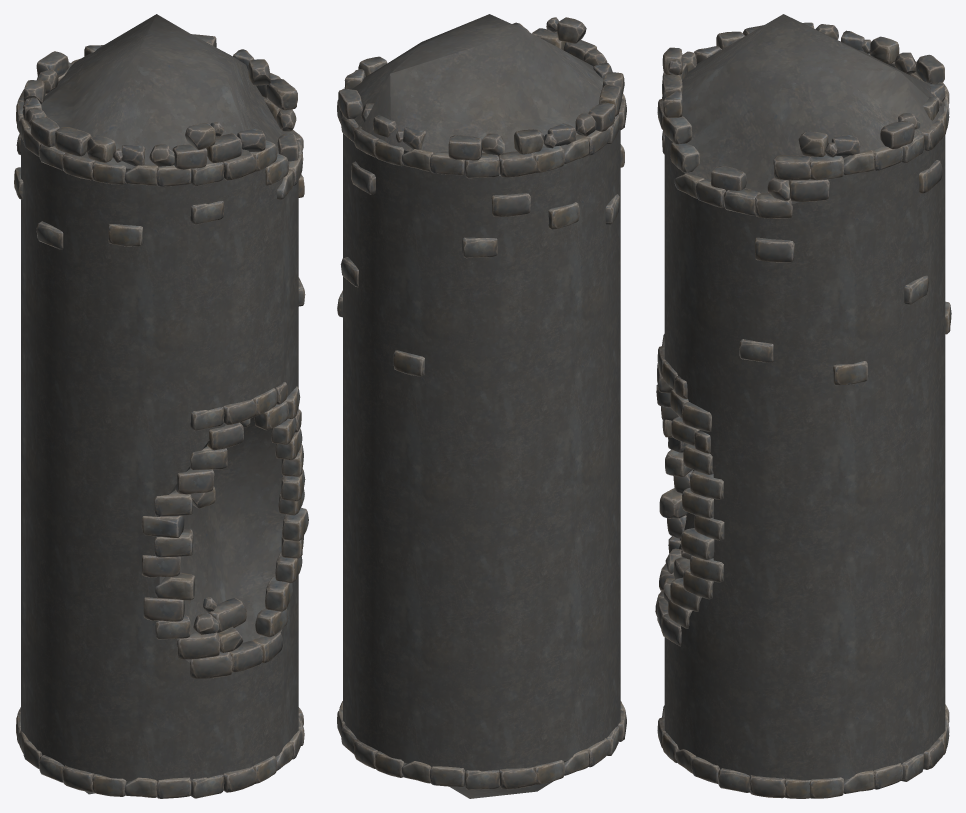
Rendered from BG_Tower.fbx.
3 views of the same model, side by side, from view 1: azimuth 30°, elevation 25°; view 2: azimuth 150°, elevation 25°; view 3: azimuth 270°, elevation 25° (orthographic).
Parts seen in each view (by area): view 1: Cylinder006, blocks_026, blocks_021; view 2: Cylinder006, blocks_021; view 3: Cylinder006, blocks_021, blocks_026.
Boxes of the visible parts, bbox=[...] form: Cylinder006: bbox=[16, 14, 304, 798]; blocks_026: bbox=[141, 382, 308, 678]; blocks_021: bbox=[14, 34, 305, 306]; Cylinder006: bbox=[337, 14, 626, 798]; blocks_021: bbox=[337, 17, 626, 376]; Cylinder006: bbox=[657, 14, 949, 798]; blocks_021: bbox=[657, 22, 951, 385]; blocks_026: bbox=[655, 334, 724, 646].
Size of the model in its own units: 666 by 1835 by 664.
